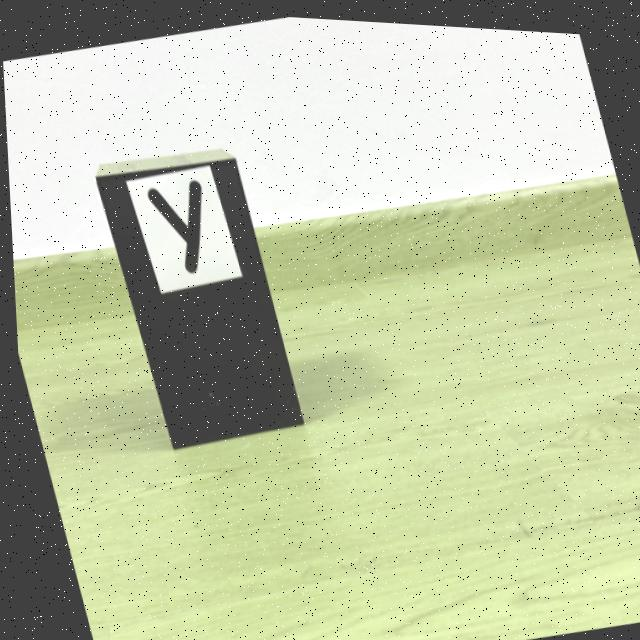Y: (145, 178, 199, 270)
